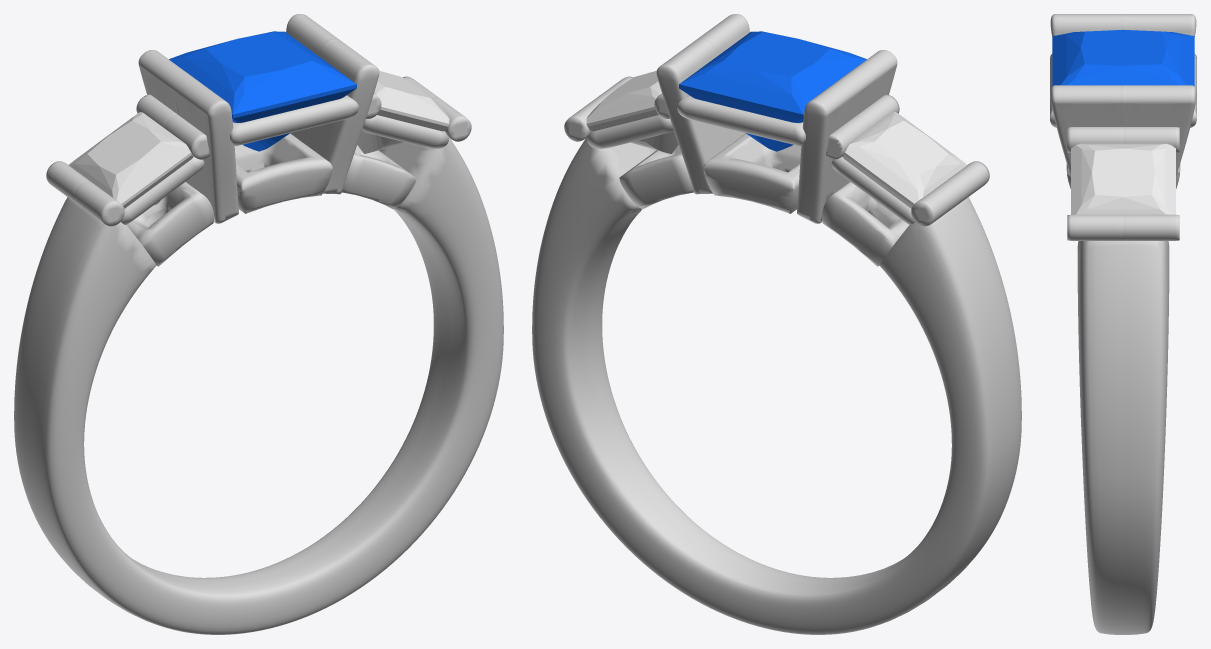
Rendered from bluesapphire-princess-platinum-halfmoonbezel-straighttaperedband-3stone.glb.
3 views of the same model, side by side, from view 1: azimuth 30°, elevation 25°; view 2: azimuth 150°, elevation 25°; view 3: azimuth 270°, elevation 25° (orthographic).
Visible parts, largest first — view 1: metal, stone, side.002, side; view 2: metal, stone, side.002, side; view 3: metal, stone, side.
Boxes of the visible parts, bbox=[...] form: metal: bbox=[14, 14, 503, 634]; stone: bbox=[169, 31, 356, 151]; side.002: bbox=[69, 112, 193, 208]; side: bbox=[357, 71, 449, 153]; metal: bbox=[532, 14, 1021, 634]; stone: bbox=[679, 31, 866, 151]; side.002: bbox=[842, 112, 966, 208]; side: bbox=[586, 71, 678, 153]; metal: bbox=[1050, 14, 1196, 634]; stone: bbox=[1052, 29, 1194, 86]; side: bbox=[1071, 143, 1175, 214].
Size of the model in its own units: 20.1 by 23.65 by 5.6.
